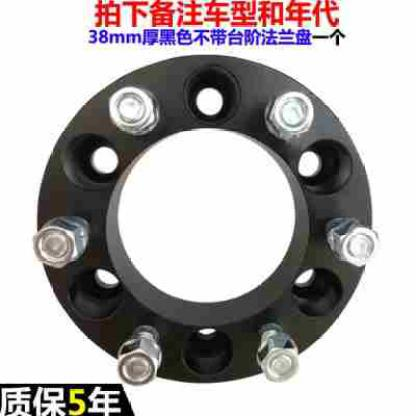FOD: (30, 44, 378, 393)
